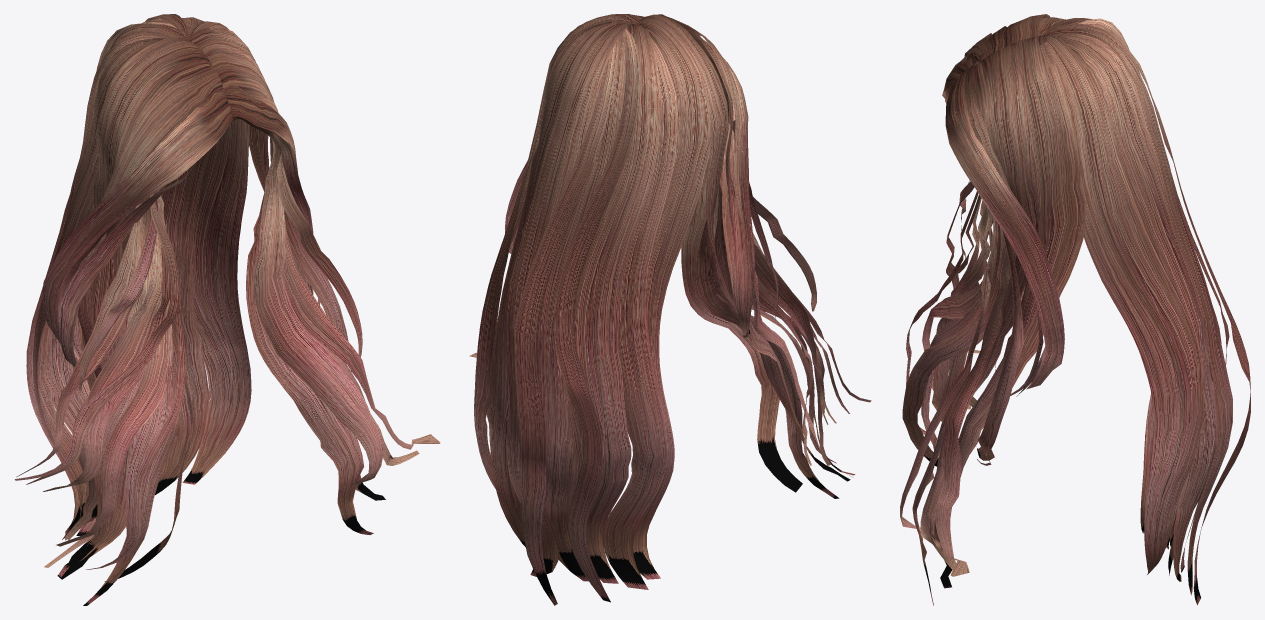
File: elvs_hazel.glb
3 renders of one model, left to right at view 1: azimuth 30°, elevation 25°; view 2: azimuth 150°, elevation 25°; view 3: azimuth 270°, elevation 25°, orthographic. The views are drawn at different scales.
Parts seen in each view (by area): view 1: elvishavis-elvs_hazel_hair; view 2: elvishavis-elvs_hazel_hair; view 3: elvishavis-elvs_hazel_hair.
Boxes of the visible parts, x1,y1,x2,y2 form: elvishavis-elvs_hazel_hair: (14, 14, 440, 605); elvishavis-elvs_hazel_hair: (469, 14, 871, 605); elvishavis-elvs_hazel_hair: (900, 14, 1250, 605).
Size of the model in its own units: 0.5583 by 0.7106 by 0.393.
Materials: 1 (1 with a texture image).
